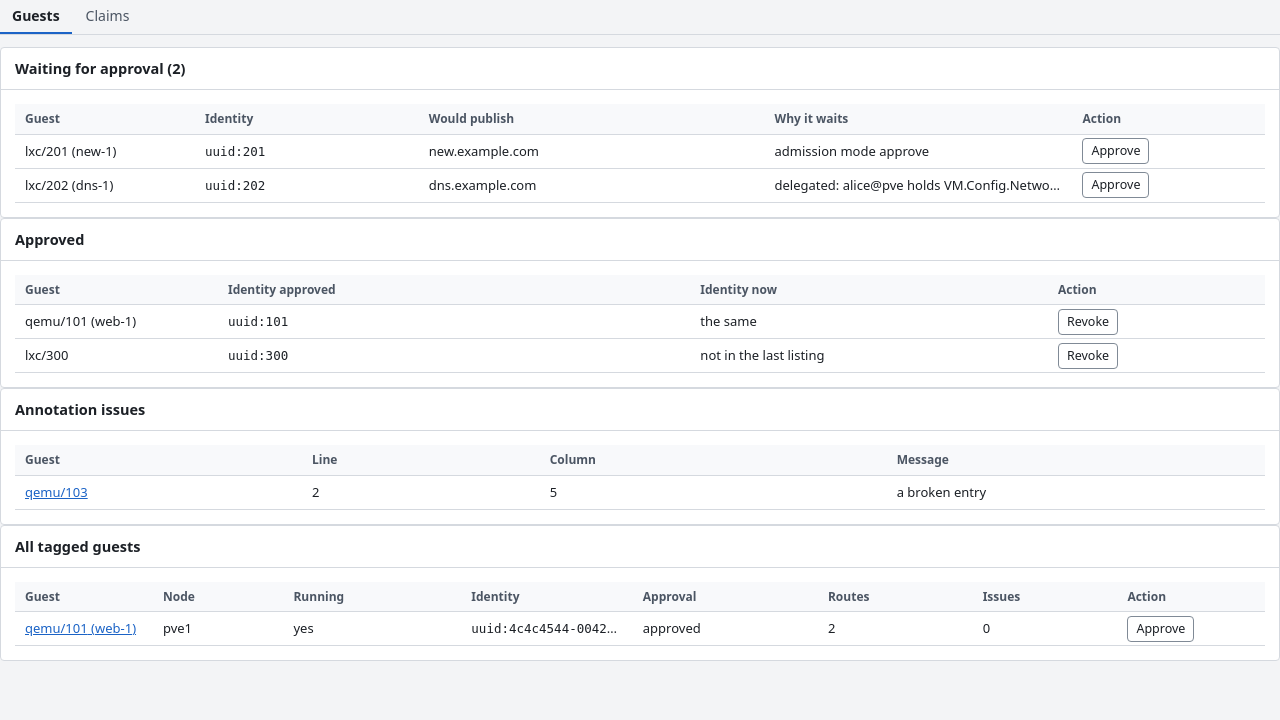
all tagged guests › a guest that does not wait is approved in the identity the listing shows
This screenshot has width=1280, height=720.
Expected: the table named "All tagged guests" is shown, left=15, top=582, right=1265, bottom=646
Click the button "Approve" in the row of "yes": (1161, 629) left=1127, top=616, right=1194, bottom=642
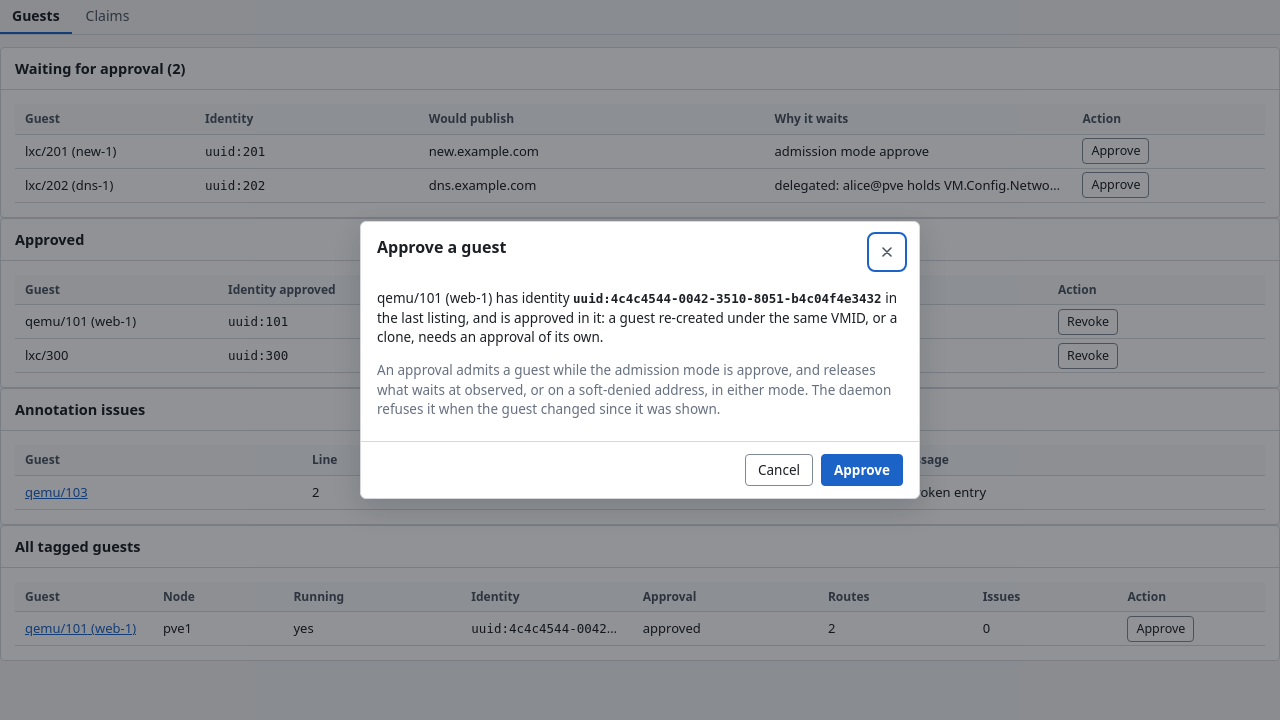
Click the button "Approve": (862, 470) left=821, top=454, right=903, bottom=486
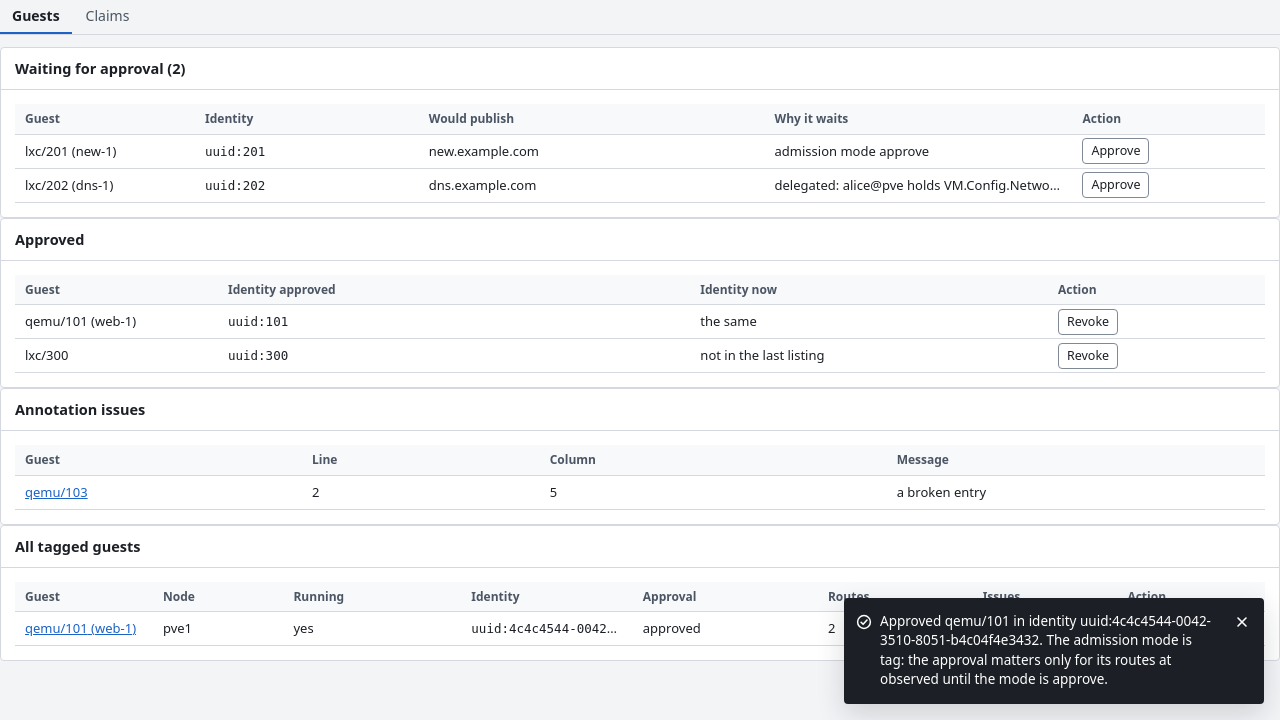
Result: the text "The admission mode is tag: the approval matters only for its routes at observed" is shown at left=880, top=612, right=1211, bottom=688
